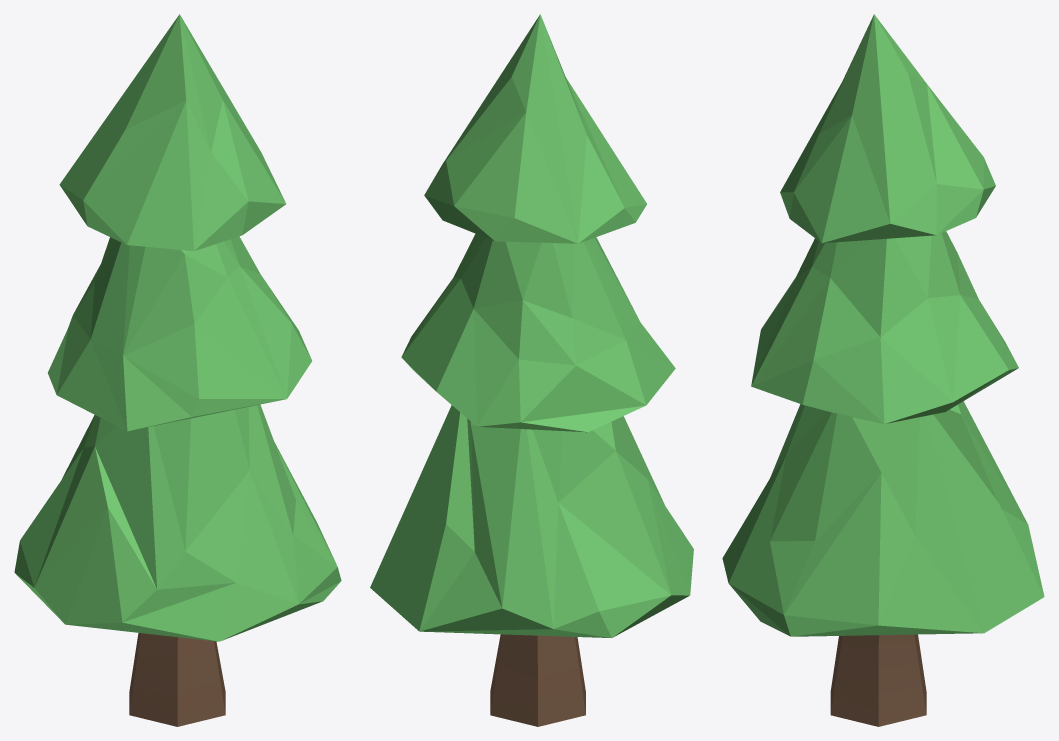
The model's file is Arbre_LowPoly.fbx.
3 renders of one model, left to right at view 1: azimuth 30°, elevation 25°; view 2: azimuth 150°, elevation 25°; view 3: azimuth 270°, elevation 25°, orthographic.
Parts seen in each view (by area): view 1: pCylinder5, pCylinder2; view 2: pCylinder5, pCylinder2; view 3: pCylinder5, pCylinder2.
Part boxes in pixels (x1,y1,x2,y2): pCylinder5: [14, 14, 341, 641]; pCylinder2: [129, 633, 225, 726]; pCylinder5: [370, 14, 693, 637]; pCylinder2: [490, 634, 585, 726]; pCylinder5: [722, 14, 1044, 636]; pCylinder2: [830, 634, 926, 726].
Bounding box in the file's own units: 1.85 × 4.4 × 1.86.
